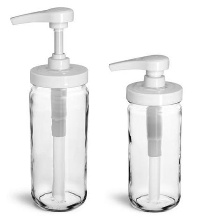bottle: (21, 63, 95, 215), (119, 77, 190, 216)
